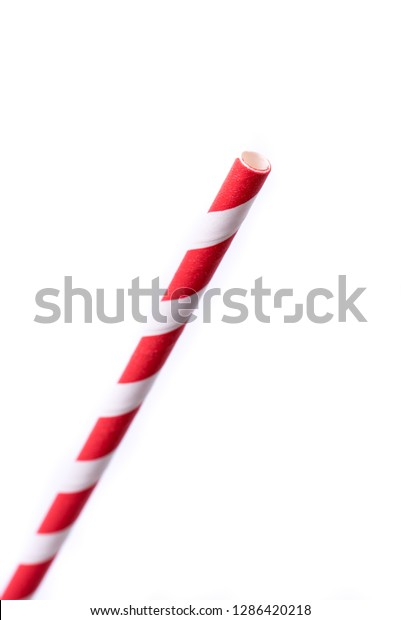Drinking Straw: (4, 148, 273, 602)
